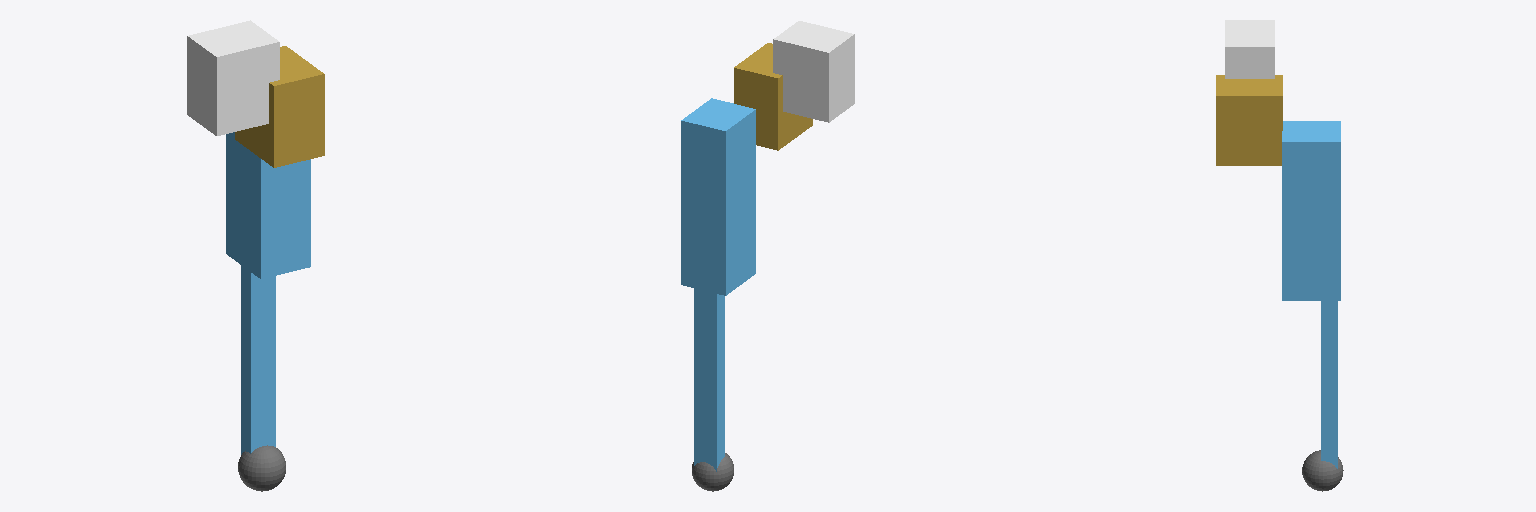
URDF robot description (leg):
<?xml version="1.0" ?>


<robot name="leg" xmlns:xacro="http://www.ros.org/wiki/xacro">


    <gazebo>
        <plugin filename="libgazebo_ros_control.so" name="gazebo_ros_control">
            <robotNamespace>/leg</robotNamespace>
            <robotSimType>
                gazebo_ros_control/DefaultRobotHWSim
            </robotSimType>
        </plugin>
    </gazebo>


    <material name="black">
        <color rgba="0.0 0.0 0.0 1.0"/>
    </material>
    <material name="blue">
        <color rgba="0.0 0.0 0.8 1.0"/>
    </material>
    <material name="green">
        <color rgba="0.0 0.8 0.0 1.0"/>
    </material>
    <material name="grey">
        <color rgba="0.2 0.2 0.2 1.0"/>
    </material>
    <material name="silver">
        <color rgba="0.913725490196 0.913725490196 0.847058823529 1.0"/>
    </material>
    <material name="orange">
        <color rgba="1.0 0.423529411765 0.0392156862745 1.0"/>
    </material>
    <material name="brown">
        <color rgba="0.870588235294 0.811764705882 0.764705882353 1.0"/>
    </material>
    <material name="white_gray">
        <color rgba="0.823529411765 0.823529411765 0.823529411765 1.0"/>
    </material>
    <material name="gold">
        <color rgba="0.811764705882 0.678431372549 0.301960784314 1.0"/>
    </material>
    <material name="white_blue">
        <color rgba="0.462745098039 0.8 0.992156862745 1.0"/>
    </material>
    <material name="white_black">
        <color rgba="0.494117647059 0.494117647059 0.494117647059 1.0"/>
    </material>
    <material name="red">
        <color rgba="0.8 0.0 0.0 1.0"/>
    </material>
    <material name="white">
        <color rgba="1.0 1.0 1.0 1.0"/>
    </material>

    <gazebo refrence="trunk">
        <mu1>0.9</mu1>
        <mu2>0.9</mu2>
        <material>Gazebo/DarkGrey</material>
    </gazebo>

    <gazebo refrence="jump">
        <mu1>0.9</mu1>
        <mu2>0.9</mu2>
        <material>Gazebo/DarkGrey</material>
    </gazebo>

    <gazebo reference="hip">
        <mu1>0.9</mu1>
        <mu2>0.9</mu2>
        <material>Gazebo/Orange</material>
  </gazebo>
  <gazebo reference="thigh">
        <mu1>0.9</mu1>
        <mu2>0.9</mu2>
        <self_collide>1</self_collide>
        <!-- <material>Gazebo/White</material> -->
        <kp value="1000000.0"/>
        <kd value="1.0"/>
  </gazebo>
  <gazebo reference="calf">
        <mu1>0.9</mu1>
        <mu2>0.9</mu2>
        <self_collide>1</self_collide>
      <material>Gazebo/DarkGray</material>
  </gazebo>
  <gazebo reference="foot">
        <mu1>0.9</mu1>
        <mu2>0.9</mu2>
        <self_collide>1</self_collide>
        <material>Gazebo/DarkGray</material>
        <kp value="1000000.0"/>
        <kd value="1.0"/>
  </gazebo>

    <link name="world"/>
    <gazebo reference="world">
        <static>true</static>
    </gazebo>

    <link name="trunk">
        <visual>
        <origin rpy="0 0 0" xyz="0 0 0.045"/>
        <geometry>
            <box size="0.075 0.06 0.09"/>
        </geometry>
        <material name="white"/>
        </visual>
        <collision>
            <origin rpy="0 0 0" xyz="0 0 0.045"/>
            <geometry>
                <box size="0.075 0.06 0.09"/>
            </geometry>
        </collision>
        <inertial>
            <origin rpy="0 0 0" xyz="0 0 0.045"/>
            <mass value="0.001"/>
            <inertia ixx="0.011253" ixy="0" ixz="0.0" iyy="0.036203" iyz="-0.0" izz="0.042673"/>
            </inertial>
        </link>

    <joint name="trunk_to_world" type="fixed">
        <origin rpy="0 0 0" xyz="0 0 0.0"/>
        <parent link="world"/>
        <child link="trunk"/>
    </joint>

    

    

    <!-- <joint name="jumper" type="prismatic">
        <parent link="trunk"/>
        <axis xyz="0 0 1"/>
        <child link="jump"/>
        <limit effort="20" lower="-0.2" upper="0.5" velocity="0.5"/>
        <origin rpy="0 0 0" xyz="0.15 0.07 0.9"/>
        <dynamics damping="0.1" friction="1"/>
    </joint> -->


<!--    <joint name="jumper" type="prismatic">-->
<!--        <parent link="trunk"/>-->
<!--        <axis xyz="0 0 1"/>-->
<!--        <child link="jump"/>-->
<!--        <limit effort="20" lower="-0.2" upper="0.5" velocity="0.5"/>-->
<!--        <origin rpy="0 0 0" xyz="0.15 0.07 0.9"/>-->
<!--        <dynamics damping="0.1" friction="1"/>-->
<!--    </joint>-->


<!--    <link name="jump">-->
<!--        <visual>-->
<!--            <origin rpy="3.14159265359 0 0" xyz="0.01 0 0"/>-->
<!--            <geometry>-->
<!--                <box size="0.02 0.08 0.093"/>-->
<!--            </geometry>-->
<!--            <material name="black"/>-->
<!--        </visual>-->
<!--        <collision>-->
<!--            <origin rpy="3.14159265359 0 0" xyz="0.01 0 0"/>-->
<!--            <geometry>-->
<!--                <box size="0.02 0.08 0.093"/>-->
<!--            </geometry>-->
<!--        </collision>-->
<!--        <inertial>-->
<!--            <origin rpy="0 0 0" xyz="0.01 0 0"/>-->
<!--            <mass value="0.002"/>-->
<!--            <inertia ixx="0.0007148275" ixy="0.0" ixz="0.0" iyy="0.0007955775" iyz="0.0" izz="0.00068875"/>-->
<!--        </inertial>-->
<!--    </link>-->

    <joint name="hip_joint" type="revolute">
        <origin rpy="0 0 0" xyz="0.025 0 0.0"/>
        <parent link="trunk"/>
        <child link="hip"/>
        <axis xyz="1 0 0"/>
        <dynamics damping="0.1" friction="0.1"/>
        <limit effort="20" lower="-3.14" upper="3.14" velocity="1.6"/>
  </joint>

  <link name="hip">
    <visual>
      <origin rpy="0 0 0" xyz="0.03 0.0 0.0"/>
      <geometry>
        <box size="0.06 0.08 0.093"/>
      </geometry>
      <material name="gold"/>
    </visual>
    <collision>
      <origin rpy="0 0 0" xyz="0.03 0.0 0.0"/>
      <geometry>
        <box size="0.06 0.08 0.093"/>
      </geometry>
    </collision>
    <inertial>
      <origin rpy="0 0 0" xyz="0.03 0.0 0.0"/>
      <mass value="0.63"/>
      <inertia ixx="0.0007148275" ixy="0.0" ixz="0.0" iyy="0.0007955775" iyz="0.0" izz="0.00068875"/>
    </inertial>
  </link>

    <joint name="thigh_joint" type="revolute">
    <origin rpy="0 0 0" xyz="0.06 0.015 0"/>
    <parent link="hip"/>
    <child link="thigh"/>
    <axis xyz="0 1 0"/>
    <dynamics damping="0.1" friction="0.1" />
    <limit effort="20" lower="-0.523598775598" upper="3.92699081699" velocity="1.6"/>
  </joint>

  <link name="thigh">
    <visual>
      <origin rpy="0 0 0" xyz="0 0.06 -0.105915"/>
      <geometry>
        <box size="0.06 0.07125 0.21183"/>
      </geometry>
      <material name="white_blue"/>
    </visual>
    <collision>
      <origin rpy="0 0 0" xyz="0 0.06 -0.105915"/>
      <geometry>
        <box size="0.06 0.07125 0.21183"/>
      </geometry>
      <material name="white_blue"/>
    </collision>
    <inertial>
      <origin rpy="0 0 0" xyz="0 0.06 -0.105915"/>
      <mass value="1.062"/>
      <inertia ixx="0.00261820866667" ixy="0.0" ixz="0.0" iyy="0.00265482216667" iyz="0.0" izz="0.000158764166667"/>
    </inertial>
  </link>
  <!-- <gazebo reference="thigh">
    <material>ArucoVisualMarker0/Marker</material>
  </gazebo> -->
  
  <!-- //////////////////////calf//////////////////// -->
  <joint name="calf_joint" type="revolute">
    <origin rpy="0 0 0" xyz="0 0.07125 -0.21183"/>
<!--    <origin rpy="0 0 0" xyz="0 0.01 -0.1881"/>-->
    <parent link="thigh"/>
    <child link="calf"/>
    <axis xyz="0 1 0"/>
    <dynamics damping="0.1" friction="0.1"/>
    <limit effort="20" lower="-3.14159265359" upper="3.14159265359" velocity="1.6"/>
  </joint>
  <link name="calf">
    <visual>
      <origin rpy="0 0 0" xyz="0.0 0.01 -0.120"/>
      <geometry>
        <box size="0.03 0.02 0.240"/>
          <!--mesh filename="package://first_leg/mesh/calf.dae" scale="1 1 1"/-->
      </geometry>
      <material name="white_blue"/>
    </visual>
    <collision>
      <origin rpy="0 0 0" xyz="0.0 0.01 -0.120"/>
      <geometry>
          <box size="0.03 0.02 0.240"/>
        <!--mesh filename="package://first_leg/mesh/Sim_0_00_04.STL" scale="1 1 1"/-->
      </geometry>
    </collision>
    <inertial>
      <origin rpy="0 0 0" xyz="0.0 0.01 -0.120"/>
      <mass value="0.133"/>
      <inertia ixx="0.000214698666667" ixy="0.0" ixz="0.0" iyy="0.000214698666667" iyz="0.0" izz="2.73066666667e-06"/>
    </inertial>
  </link>
  
  <!-- //////////////////////foot//////////////////// -->
  <joint name="foot_fixed" type="fixed">
    <origin rpy="0 0 0" xyz="0 0 -0.240"/>
<!--    <origin rpy="0 0 0" xyz="0 0.01 -0.1881"/>-->
    <parent link="calf"/>
    <child link="foot"/>
    <axis xyz="0 1 0"/>
    <dynamics damping="0.1" friction="0.1"/>
    <limit effort="20" lower="-3.14159265359" upper="3.14159265359" velocity="10.6"/>
  </joint>

  <link name="foot">
    <visual>
      <origin rpy="0 0 0" xyz="0 0.002 0"/>
      <geometry>
        <sphere radius="0.025"/>
      </geometry>
      <material name="white_black"/>
    </visual>
    <collision>
      <origin rpy="0 0 0" xyz="0 0.002 0"/>
      <geometry>
        <sphere radius="0.025"/>
      </geometry>
    </collision>
    <inertial>
      <origin rpy="0 0 0" xyz="0 0.002 0"/>
      <mass value="0.005"/>
      <inertia ixx="4.2135e-05" ixy="0.0" ixz="0.0" iyy="4.2135e-05" iyz="0.0" izz="4.2135e-05"/>
    </inertial>
  </link>

  <joint name="camera_joint" type="fixed">
    <origin rpy="0 0 -1.57" xyz="0 0.6 -0.2"/>
    <parent link="world"/>
    <child link="camera_link"/>
  </joint>

  <link name="camera_link">
    <inertial>
      <mass value="0.200"/>
      <origin rpy="0 0 0" xyz="0 0 0"/>
      <inertia ixx="5.8083e-4" ixy="0" ixz="0" iyy="3.0833e-5" iyz="0" izz="5.9083e-4"/>
    </inertial>
    <visual>
      <origin rpy="0 0 0" xyz="0 0 0"/>
      <geometry>
        <mesh filename="package://hector_sensors_description/meshes/asus_camera/asus_camera_simple.dae"/>
      </geometry>
    </visual>
    <collision>
      <origin rpy="0 0 0" xyz="0 0 0"/>
      <geometry>
        <mesh filename="package://hector_sensors_description/meshes/asus_camera/asus_camera_simple.dae"/>
      </geometry>
    </collision>
  </link>
  <joint name="camera_depth_joint" type="fixed">
    <origin rpy="0 0 0" xyz="0.0 0.049 0.0"/>
    <parent link="camera_link"/>
    <child link="camera_depth_frame"/>
  </joint>
  <link name="camera_depth_frame"/>
  <joint name="camera_depth_optical_joint" type="fixed">
    <origin rpy="-1.57079632679 0.0 -1.57079632679" xyz="0 0 0"/>
    <parent link="camera_depth_frame"/>
    <child link="camera_depth_optical_frame"/>
  </joint>
  <link name="camera_depth_optical_frame"/>
  <joint name="camera_rgb_joint" type="fixed">
    <origin rpy="0 0 0" xyz="0.0 0.022 0.0"/>
    <parent link="camera_link"/>
    <child link="camera_rgb_frame"/>
  </joint>
  <link name="camera_rgb_frame"/>
  <joint name="camera_rgb_optical_joint" type="fixed">
    <origin rpy="-1.57079632679 0.0 -1.57079632679" xyz="0 0 0"/>
    <parent link="camera_rgb_frame"/>
    <child link="camera_rgb_optical_frame"/>
  </joint>
  <link name="camera_rgb_optical_frame"/>
  <gazebo reference="camera_depth_frame">
    <sensor name="camera" type="depth">
      <update_rate>20</update_rate>
      <camera>
        <horizontal_fov>1.09606677025</horizontal_fov>
        <image>
          <format>R8G8B8</format>
          <width>640</width>
          <height>480</height>
        </image>
        <clip>
          <near>0.5</near>
          <far>9</far>
        </clip>
      </camera>
      <plugin filename="libgazebo_ros_openni_kinect.so" name="camera_camera_controller">
        <imageTopicName>camera/rgb/image_raw</imageTopicName>
        <cameraInfoTopicName>camera/rgb/camera_info</cameraInfoTopicName>
        <depthImageTopicName>camera/depth/image_raw</depthImageTopicName>
        <depthImageCameraInfoTopicName>camera/depth/camera_info</depthImageCameraInfoTopicName>
        <pointCloudTopicName>camera/depth/points</pointCloudTopicName>
        <frameName>camera_depth_optical_frame</frameName>
      </plugin>
    </sensor>
  </gazebo>

  <!--/////////////// transmission tags ////////////////////// -->
  <transmission name="hip_tran">
    <type>transmission_interface/SimpleTransmission</type>
    <joint name="hip_joint">
      <hardwareInterface>hardware_interface/EffortJointInterface</hardwareInterface>
    </joint>
    <actuator name="hip_motor">
      <hardwareInterface>hardware_interface/EffortJointInterface</hardwareInterface>
      <mechanicalReduction>1</mechanicalReduction>
    </actuator>
  </transmission>
  <transmission name="thigh_tran">
    <type>transmission_interface/SimpleTransmission</type>
    <joint name="thigh_joint">
      <hardwareInterface>hardware_interface/EffortJointInterface</hardwareInterface>
    </joint>
    <actuator name="thigh_motor">
      <hardwareInterface>hardware_interface/EffortJointInterface</hardwareInterface>
      <mechanicalReduction>1</mechanicalReduction>
    </actuator>
  </transmission>
  <transmission name="calf_tran">
    <type>transmission_interface/SimpleTransmission</type>
    <joint name="calf_joint">
      <hardwareInterface>hardware_interface/EffortJointInterface</hardwareInterface>
    </joint>
    <actuator name="calf_motor">
      <hardwareInterface>hardware_interface/EffortJointInterface</hardwareInterface>
      <mechanicalReduction>1</mechanicalReduction>
    </actuator>
  </transmission>
</robot>

--- Facts derived from the render (not from the file) ---
The picture shows the robot from 3 angles, left to right: view 1: azimuth 30°, elevation 25°; view 2: azimuth 150°, elevation 25°; view 3: azimuth 270°, elevation 25°; orthographic projection.
Model leg with 11 links and 10 joints (3 revolute, 7 fixed), rooted at world, posed every joint at zero.
Visible links, largest first — view 1: thigh, trunk, hip, calf, foot; view 2: thigh, trunk, calf, hip, foot; view 3: thigh, hip, trunk, calf, foot.
Link boxes in pixels (x1=…): thigh: x1=226, y1=132, x2=310, y2=278; trunk: x1=187, y1=20, x2=279, y2=135; hip: x1=235, y1=46, x2=324, y2=167; calf: x1=241, y1=265, x2=275, y2=454; foot: x1=238, y1=445, x2=285, y2=491; thigh: x1=681, y1=98, x2=755, y2=295; trunk: x1=773, y1=21, x2=854, y2=122; calf: x1=694, y1=288, x2=724, y2=471; hip: x1=734, y1=43, x2=812, y2=150; foot: x1=692, y1=453, x2=733, y2=491; thigh: x1=1282, y1=121, x2=1340, y2=300; hip: x1=1216, y1=75, x2=1282, y2=165; trunk: x1=1225, y1=20, x2=1274, y2=78; calf: x1=1321, y1=301, x2=1337, y2=468; foot: x1=1302, y1=450, x2=1343, y2=491.
Bounding box of the posed robot: 0.1525 × 0.1533 × 0.5668 m (x, y, z).
0 mesh visuals loaded from 1 distinct referenced files (none loaded); not drawn: 1 (reference not matched to a file when rendering).